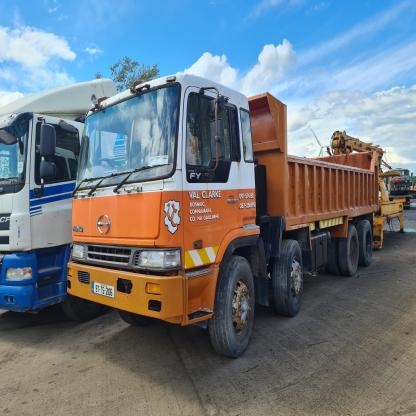dump_truck: (66, 66, 388, 366)
